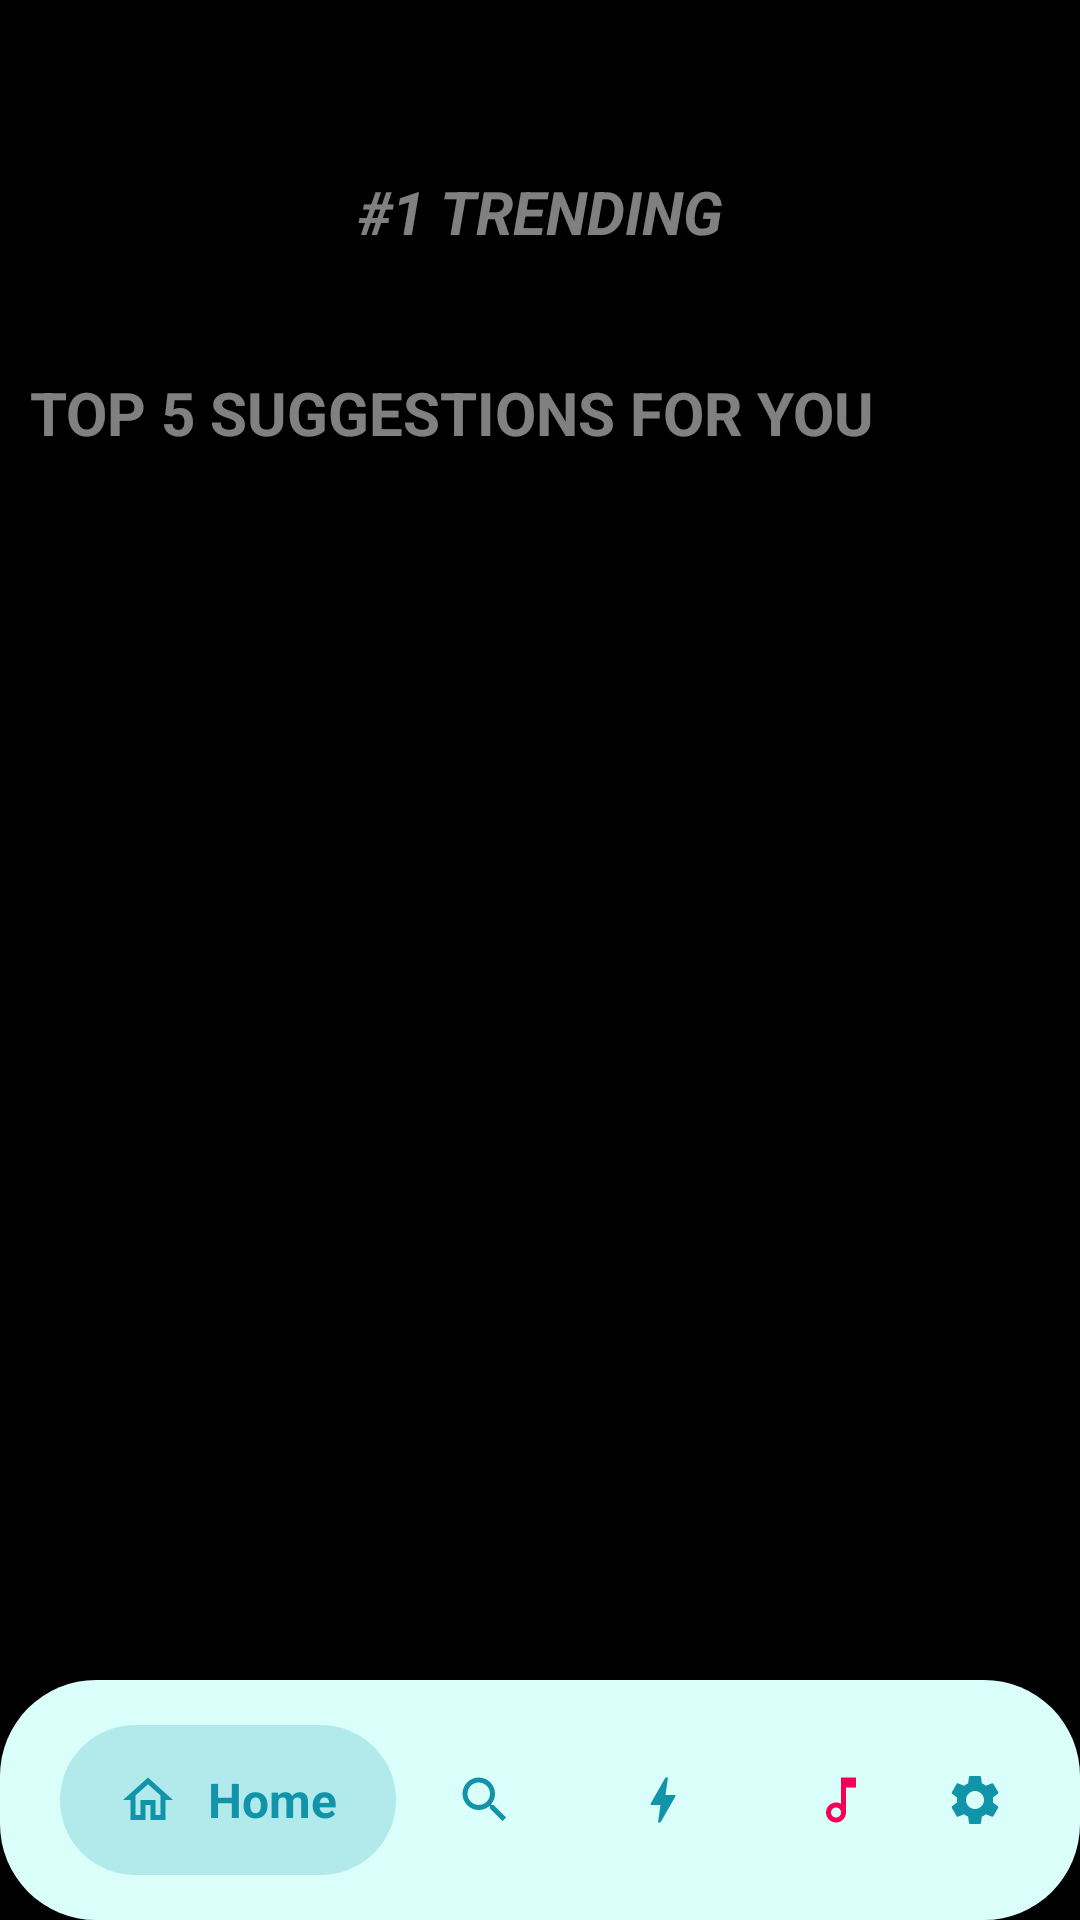

Where icons sit on this 1080×1920 app screen, as (x1, y1, x2, y2):
bolt: (650, 1777, 676, 1823)
music note: (826, 1777, 856, 1823)
search: (462, 1777, 506, 1821)
settings: (951, 1776, 999, 1824)
